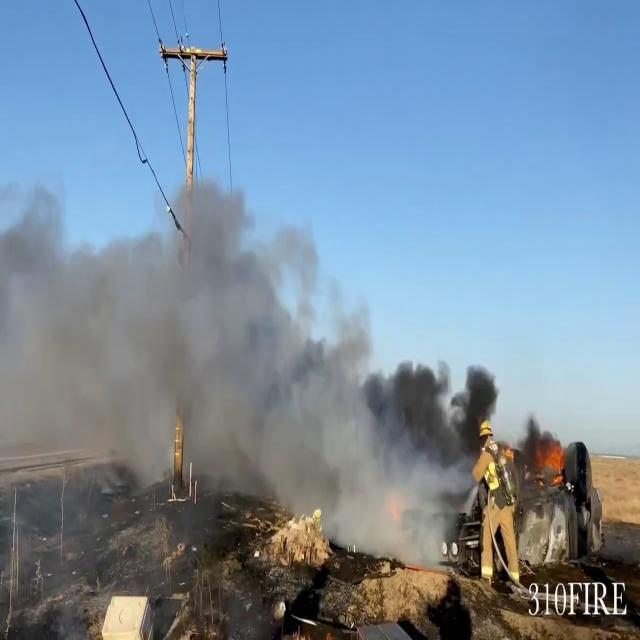Fire: (538, 438, 568, 486)
Smoke: (0, 156, 502, 539)
